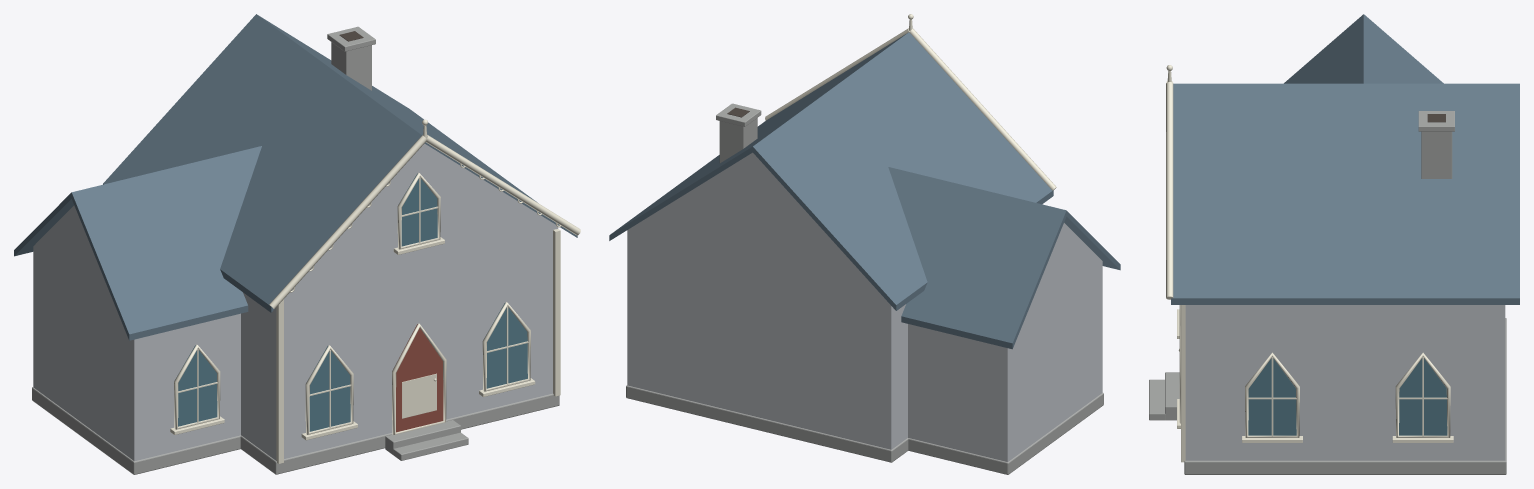
The model's file is medium_gothic_revival.glb.
The picture shows the model from 3 angles, left to right: view 1: azimuth 30°, elevation 25°; view 2: azimuth 150°, elevation 25°; view 3: azimuth 270°, elevation 25°; orthographic projection. The views are drawn at different scales.
Visible parts, largest first — view 1: Gothic steep main gable closed gabled walls, Gothic steep main gable closed pitched roof, Gothic left cross-gable closed gabled walls, Gothic left cross-gable closed pitched roof, Gothic main foundation, Gothic side wing foundation, Gothic pointed entrance inset pane, Gothic front pointed window inset pane, Gothic front pointed window inset pane.001, Gothic wing front lancet inset pane, Gothic high gable lancet inset pane, Gothic front decorative bargeboard (+13 smaller); view 2: Gothic steep main gable closed gabled walls, Gothic steep main gable closed pitched roof, Gothic left cross-gable closed gabled walls, Gothic left cross-gable closed pitched roof, Gothic main foundation, Gothic side wing foundation, Gothic front decorative bargeboard, Gothic rear chimney chimney shaft, Gothic front decorative bargeboard.001, Gothic rear chimney chimney cap; view 3: Gothic steep main gable closed pitched roof, Gothic steep main gable closed gabled walls, Gothic left cross-gable closed pitched roof, Gothic main foundation, Gothic right pointed sash inset pane, Gothic right pointed sash inset pane.001, Gothic front decorative bargeboard.001, Gothic rear chimney chimney shaft, Gothic right pointed sash arched surround.001, Gothic right pointed sash arched surround, Gothic main front corner trim.001, Gothic entry step 1 (+2 smaller).
Part boxes in pixels (box(x1,y1,x2,y2)): Gothic steep main gable closed gabled walls: box(241, 143, 558, 460); Gothic steep main gable closed pitched roof: box(103, 14, 577, 312); Gothic left cross-gable closed gabled walls: box(33, 205, 240, 461); Gothic left cross-gable closed pitched roof: box(14, 146, 261, 340); Gothic main foundation: box(240, 393, 559, 474); Gothic side wing foundation: box(32, 387, 240, 474); Gothic pointed entrance inset pane: box(393, 324, 443, 432); Gothic front pointed window inset pane: box(308, 346, 350, 431); Gothic front pointed window inset pane.001: box(486, 303, 527, 388); Gothic wing front lancet inset pane: box(175, 345, 217, 426); Gothic high gable lancet inset pane: box(401, 173, 437, 246); Gothic front decorative bargeboard: box(269, 135, 426, 308); Gothic steep main gable closed gabled walls: box(627, 152, 907, 449); Gothic steep main gable closed pitched roof: box(609, 32, 1053, 310); Gothic left cross-gable closed gabled walls: box(908, 223, 1102, 461); Gothic left cross-gable closed pitched roof: box(888, 167, 1120, 349); Gothic main foundation: box(626, 385, 908, 462); Gothic side wing foundation: box(908, 393, 1103, 474); Gothic front decorative bargeboard: box(909, 28, 1056, 190); Gothic rear chimney chimney shaft: box(719, 118, 757, 162); Gothic front decorative bargeboard.001: box(765, 28, 909, 120); Gothic rear chimney chimney cap: box(716, 103, 761, 126); Gothic steep main gable closed pitched roof: box(1171, 83, 1519, 304); Gothic steep main gable closed gabled walls: box(1185, 305, 1505, 460); Gothic left cross-gable closed pitched roof: box(1284, 14, 1443, 83); Gothic main foundation: box(1184, 318, 1506, 474); Gothic right pointed sash inset pane: box(1248, 358, 1296, 435); Gothic right pointed sash inset pane.001: box(1399, 358, 1447, 435); Gothic front decorative bargeboard.001: box(1166, 82, 1173, 299); Gothic rear chimney chimney shaft: box(1421, 131, 1452, 178); Gothic right pointed sash arched surround.001: box(1395, 352, 1450, 437); Gothic right pointed sash arched surround: box(1245, 352, 1299, 437); Gothic main front corner trim.001: box(1181, 305, 1185, 462); Gothic entry step 1: box(1149, 379, 1165, 420).
Bounding box in the file's own units: 10.89 × 8.17 × 8.12.
